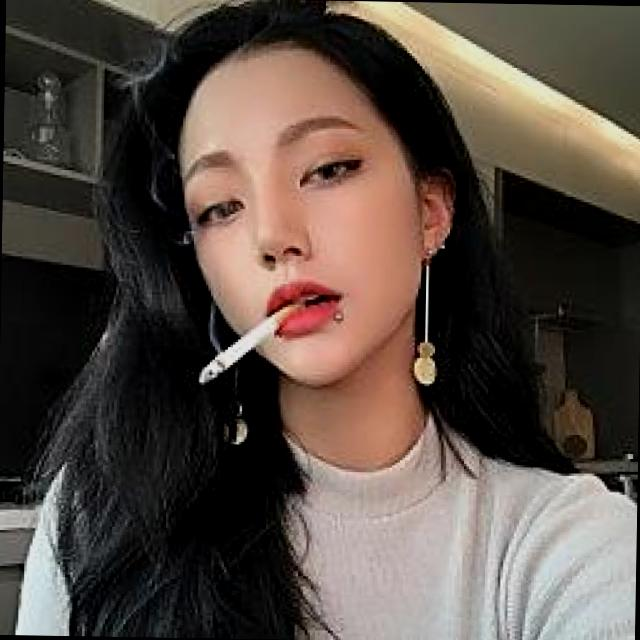smoke: (157, 271, 323, 407)
